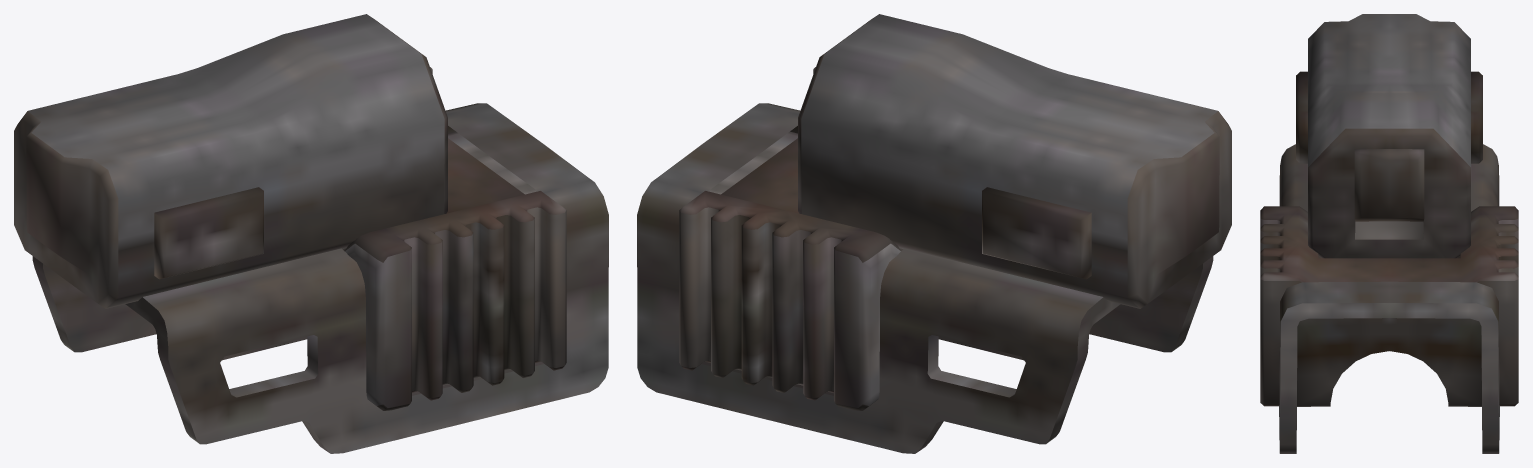
The model's file is HeavyWeapons_Vladof_Barrel_Vred_Acc_2.obj.
The picture shows the model from 3 angles, left to right: view 1: azimuth 30°, elevation 25°; view 2: azimuth 150°, elevation 25°; view 3: azimuth 270°, elevation 25°; orthographic projection. The views are drawn at different scales.
Visible parts, largest first — view 1: SK_HW_VLA.154, SK_HW_VLA.153, SK_HW_VLA.155, SK_HW_VLA.157; view 2: SK_HW_VLA.154, SK_HW_VLA.153, SK_HW_VLA.155, SK_HW_VLA.156; view 3: SK_HW_VLA.154, SK_HW_VLA.153, SK_HW_VLA.155, SK_HW_VLA.156, SK_HW_VLA.157.
Boxes of the visible parts, box(x1,y1,x2,y2) form: SK_HW_VLA.154: box(14, 14, 447, 308); SK_HW_VLA.153: box(32, 103, 608, 453); SK_HW_VLA.155: box(342, 138, 566, 410); SK_HW_VLA.157: box(154, 187, 263, 279); SK_HW_VLA.154: box(798, 14, 1231, 308); SK_HW_VLA.153: box(637, 103, 1213, 453); SK_HW_VLA.155: box(679, 138, 903, 410); SK_HW_VLA.156: box(982, 187, 1091, 279); SK_HW_VLA.154: box(1308, 14, 1470, 258); SK_HW_VLA.153: box(1279, 144, 1499, 453); SK_HW_VLA.155: box(1260, 206, 1518, 406); SK_HW_VLA.156: box(1471, 71, 1482, 163); SK_HW_VLA.157: box(1296, 71, 1307, 163).
Size of the model in its own units: 23.68 by 15.49 by 13.18.
